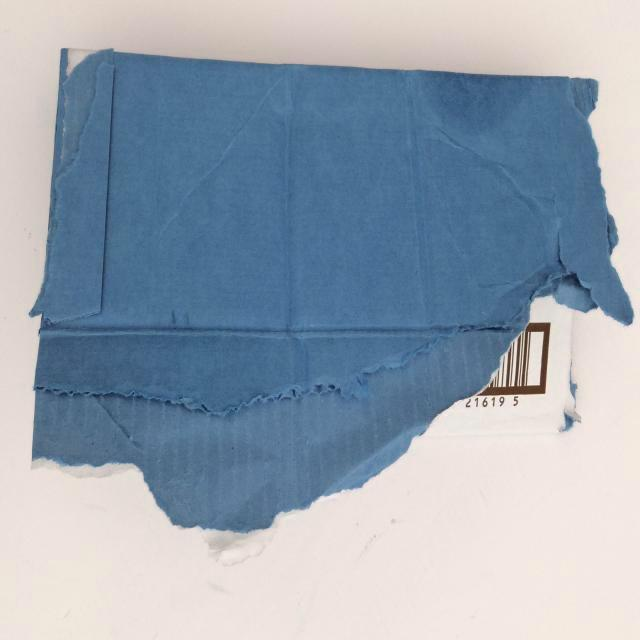cardboard: (23, 26, 640, 555)
